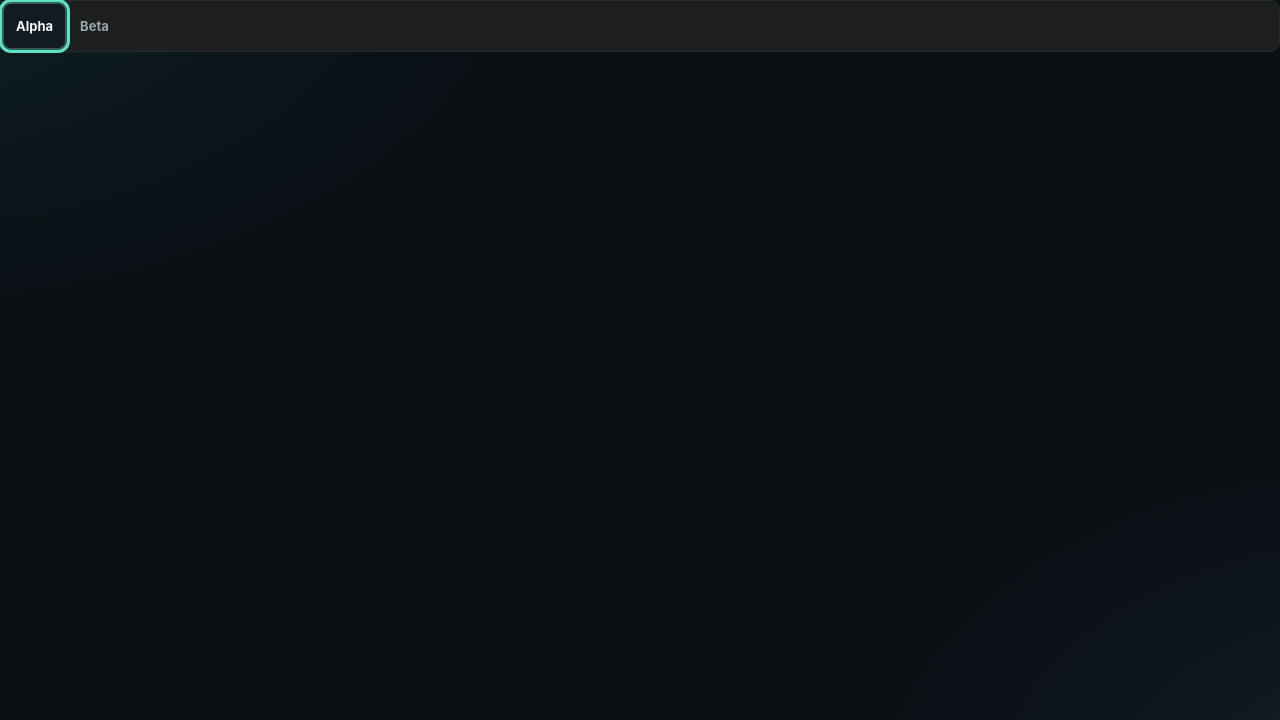
shared UI primitives › TabList leaves vertical arrows alone and supports manual activation
Press ArrowDown in the element named "Manual sections", box top-left (0, 0), bottom-right (1279, 52)
Press ArrowRight in the element named "Manual sections", box top-left (0, 0), bottom-right (1279, 52)
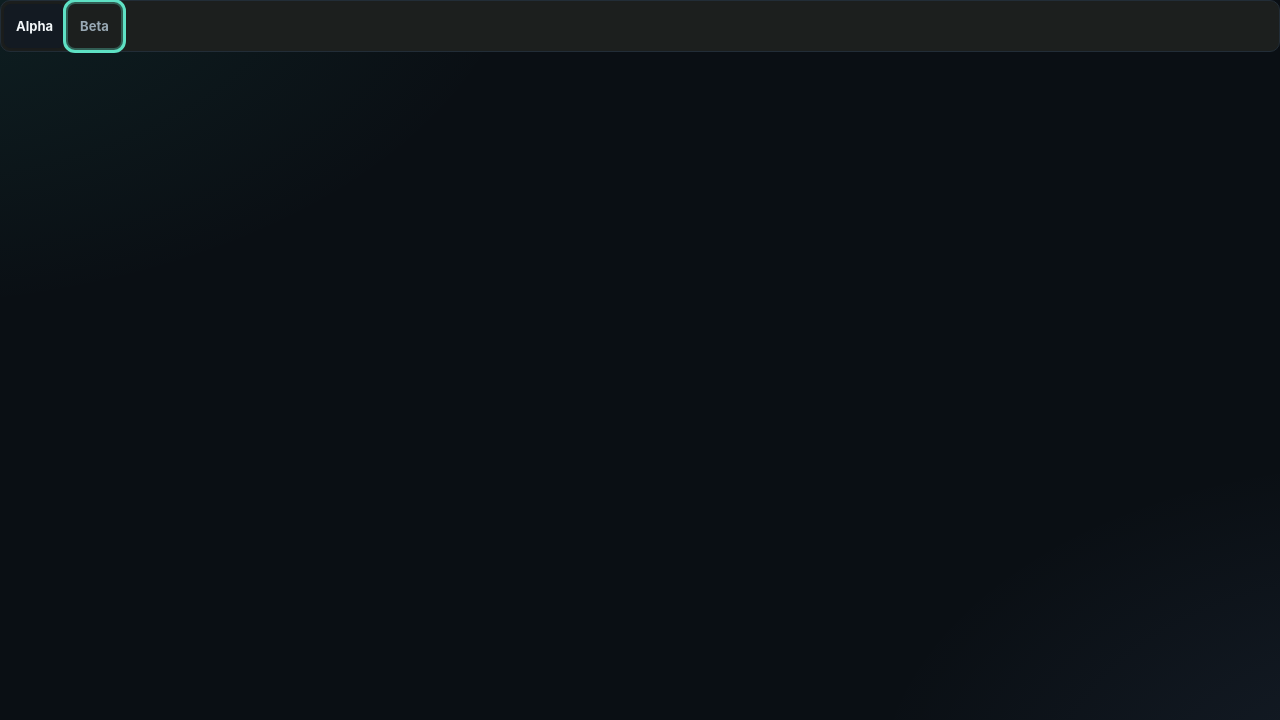
Click the tab "Beta" at [94, 26], box top-left (68, 4), bottom-right (121, 48)
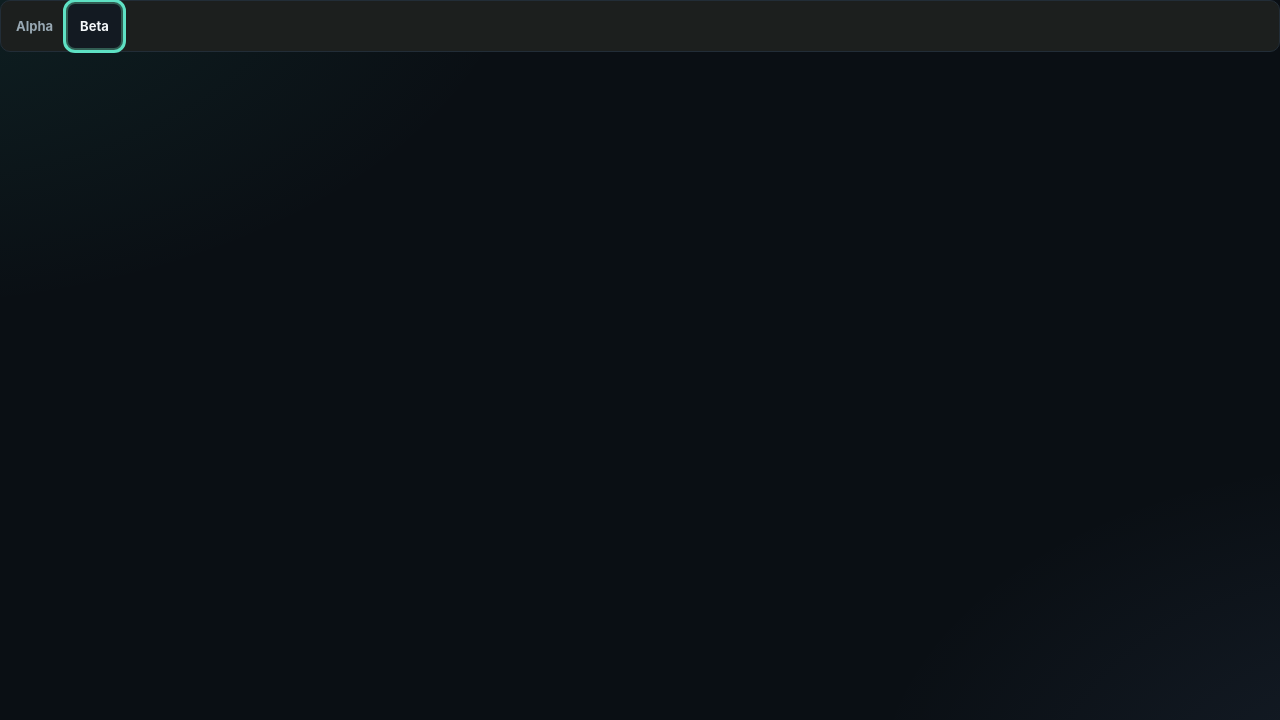
Expected: the tab "Beta" is selected, top-left (68, 4), bottom-right (121, 48)
